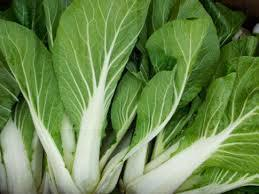Healthy-Pechay: (1, 33, 253, 194), (67, 3, 100, 75), (202, 1, 247, 47), (78, 85, 108, 139), (3, 26, 34, 76), (173, 54, 191, 92), (0, 3, 25, 30), (136, 46, 152, 80), (166, 0, 186, 25)
